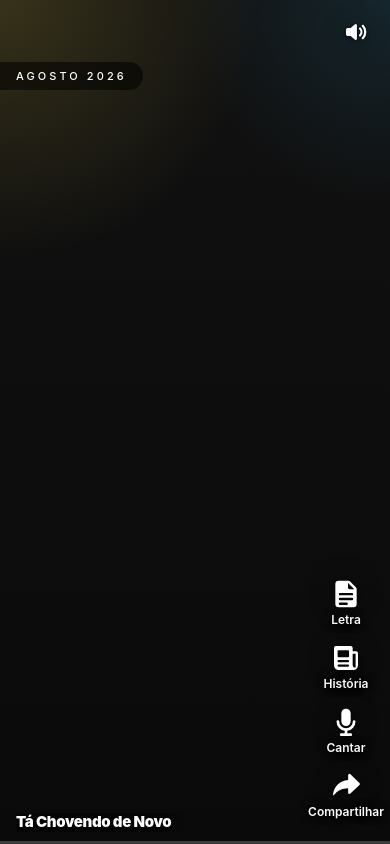
Test: Colonne droite — Som et História › opens a sheet with title, month and year, theme, the description and a link to the song page
The width and height of the screenshot is (390, 844).
What coordinates should you click on to do the following:
click the button with aria-label "ler a história"
I would click on:
 (346, 666)
Its box is [308,640,384,692].
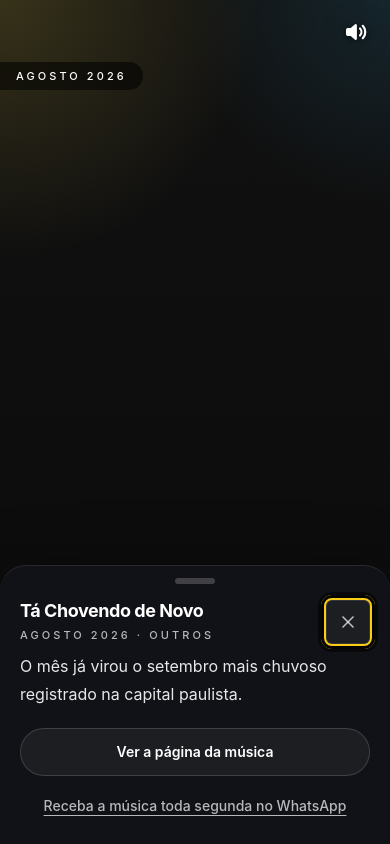
Now the heading "Tá Chovendo de Novo" is shown, box [20,600,203,621]
Now the text "agosto 2026 · Outros" is shown, box [20,628,214,642]
Now the text "O mês já virou o setembro mais chuvoso registrado na capital paulista." is shown, box [20,652,370,708]
